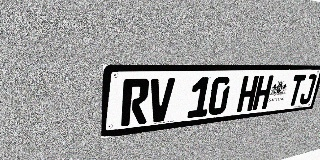0: (207, 76, 231, 116)
1: (187, 77, 213, 118)
H: (236, 76, 259, 112), (252, 75, 274, 110)
J: (298, 74, 317, 105)
R: (121, 78, 150, 127)
T: (286, 74, 306, 106)
V: (147, 78, 175, 123)
